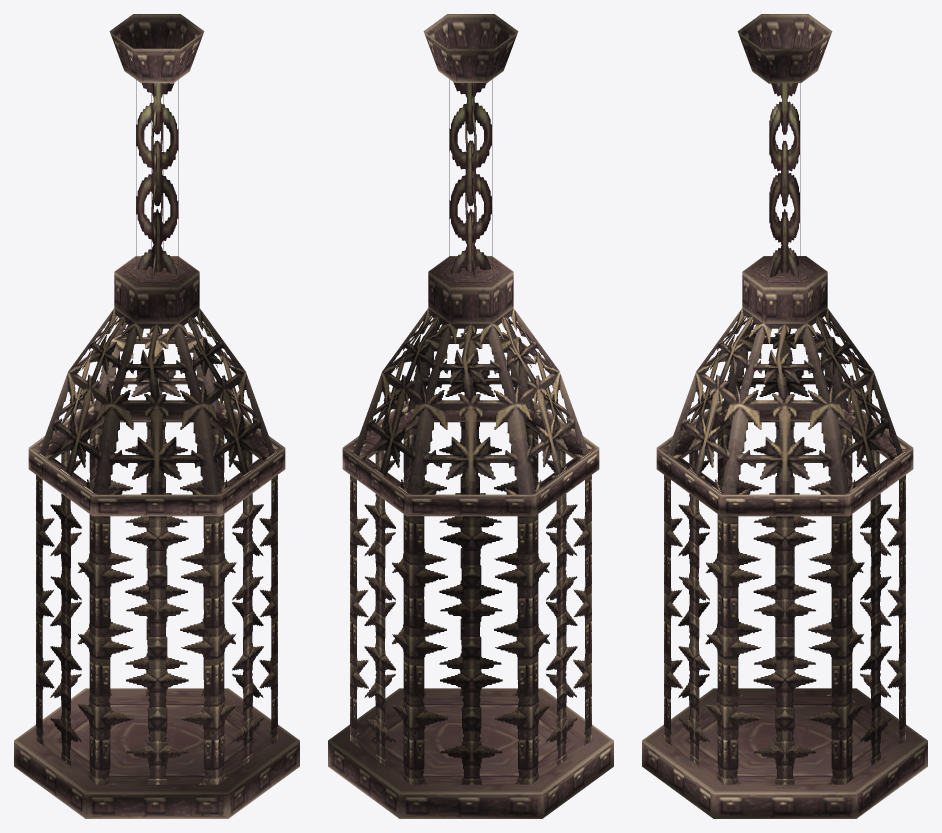
The model's file is generalhangingcage01.obj.
3 views of the same model, side by side, from view 1: azimuth 30°, elevation 25°; view 2: azimuth 150°, elevation 25°; view 3: azimuth 270°, elevation 25° (orthographic).
Visible parts, largest first — view 1: GENERALHANGINGCAGE010; view 2: GENERALHANGINGCAGE010; view 3: GENERALHANGINGCAGE010.
Boxes of the visible parts, x1,y1,x2,y2 form: GENERALHANGINGCAGE010: (14,14,299,818); GENERALHANGINGCAGE010: (328,14,613,818); GENERALHANGINGCAGE010: (642,14,927,818).
Bounding box in the file's own units: 1.89 × 6.5 × 2.18.
Materials: 1 (1 with a texture image).
